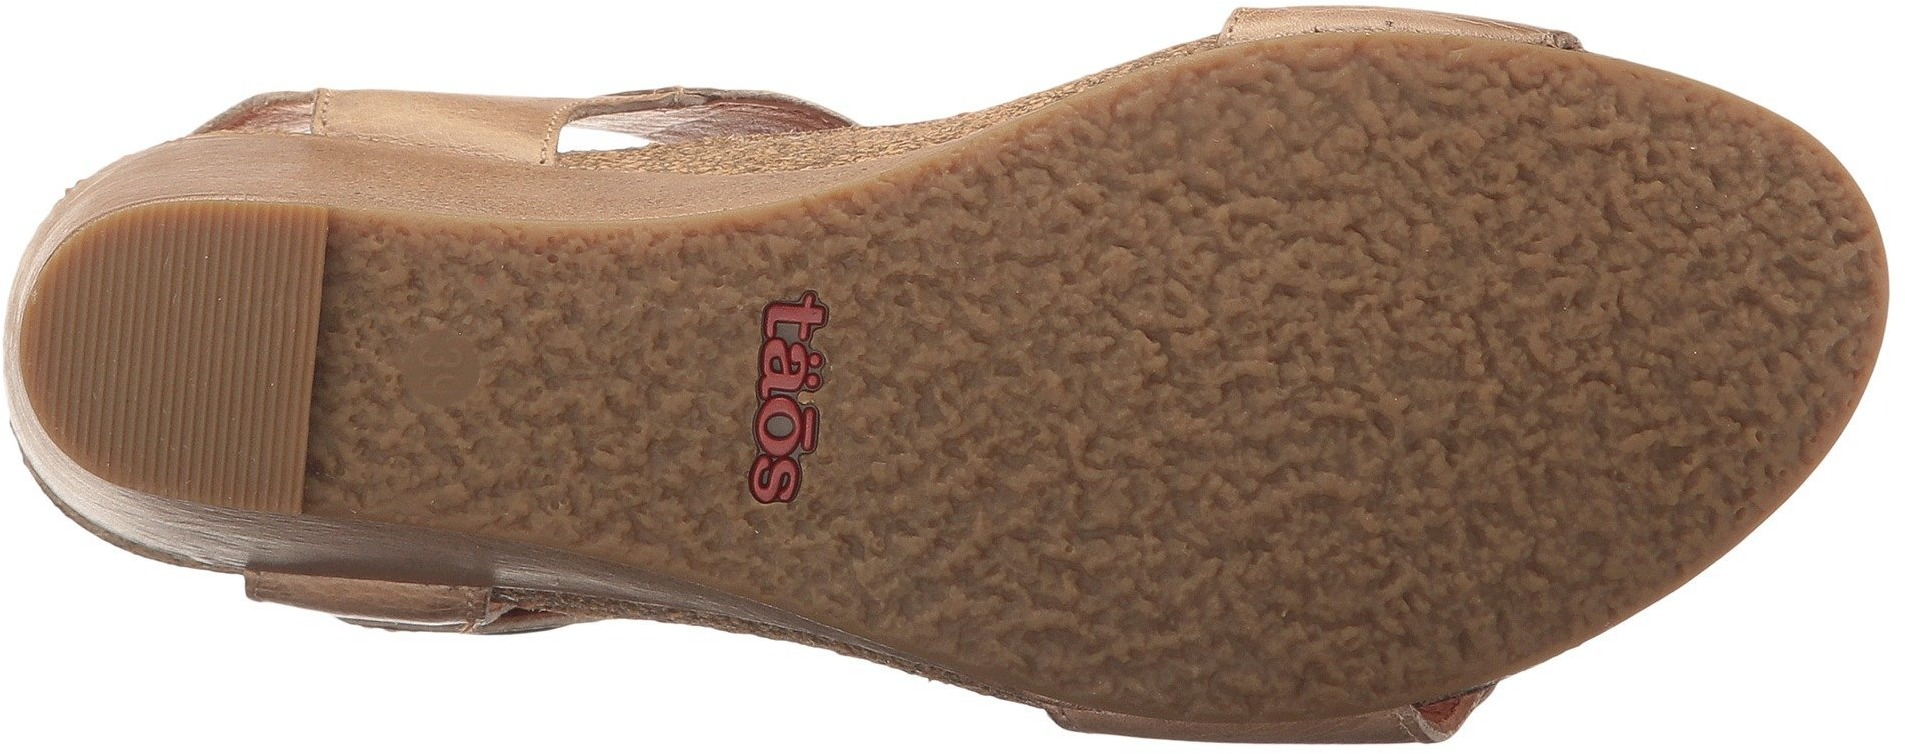exclude: (304, 158, 740, 597)
other: (1106, 358, 1377, 611), (1103, 100, 1363, 345), (1377, 68, 1630, 317), (1383, 328, 1637, 566), (863, 189, 1093, 416), (78, 257, 309, 472), (864, 420, 1093, 634), (1640, 188, 1856, 412), (1645, 421, 1753, 528)
text: (731, 389, 825, 472), (746, 297, 826, 381), (742, 480, 803, 526)
